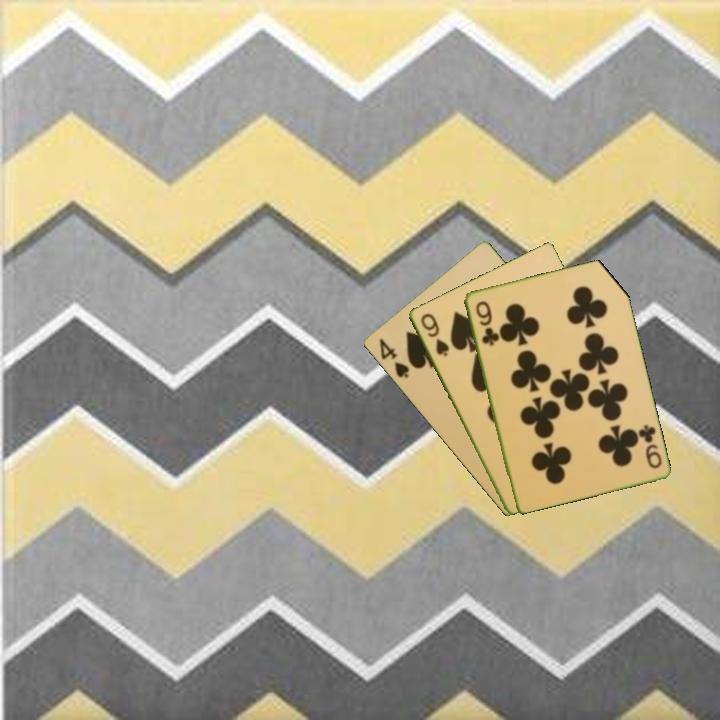4s: (375, 335, 412, 381)
9c: (634, 421, 665, 471), (472, 297, 500, 348)
9s: (417, 309, 452, 359)
